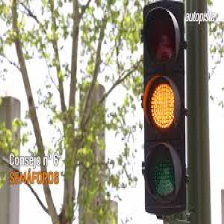semaforo: (143, 1, 186, 217)
